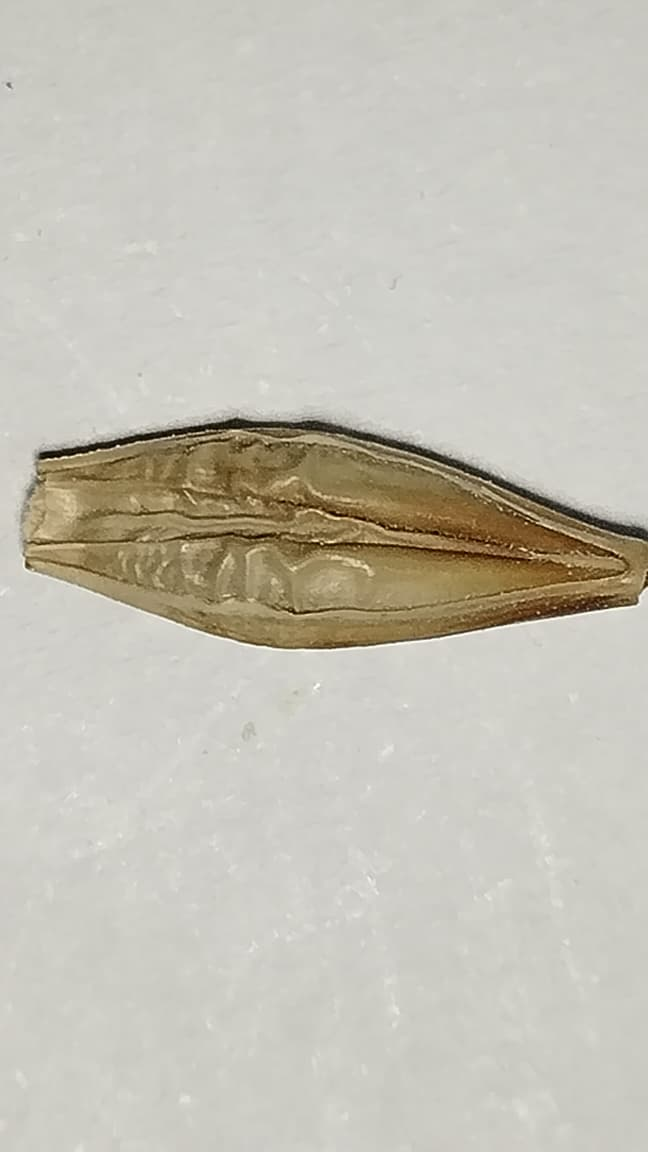healthy-70-60: (25, 427, 647, 644)
